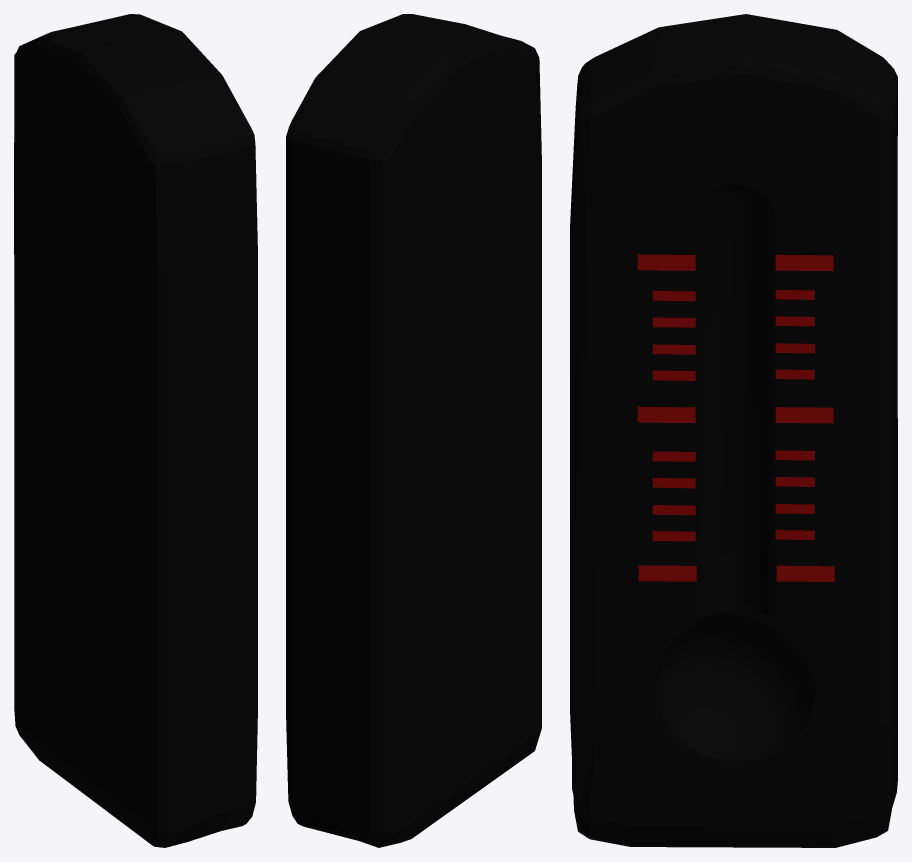
File: stage2 thermometer 1.FBX
The picture shows the model from 3 angles, left to right: view 1: azimuth 30°, elevation 25°; view 2: azimuth 150°, elevation 25°; view 3: azimuth 270°, elevation 25°; orthographic projection. The views are drawn at different scales.
Parts seen in each view (by area): view 1: Box039; view 2: Box039; view 3: Box039.
Part boxes in pixels (bbox=[...]): Box039: bbox=[14, 14, 257, 847]; Box039: bbox=[286, 14, 541, 847]; Box039: bbox=[570, 14, 897, 847].
Size of the model in its own units: 3.1 by 20.23 by 7.6.
